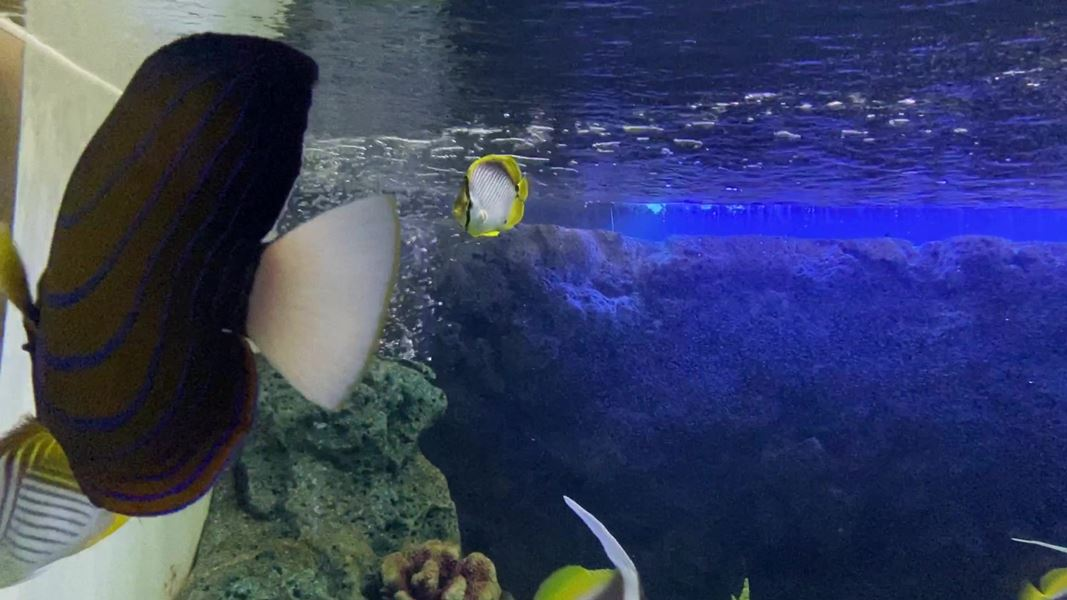Blue ring angelfish: (1, 29, 409, 530)
